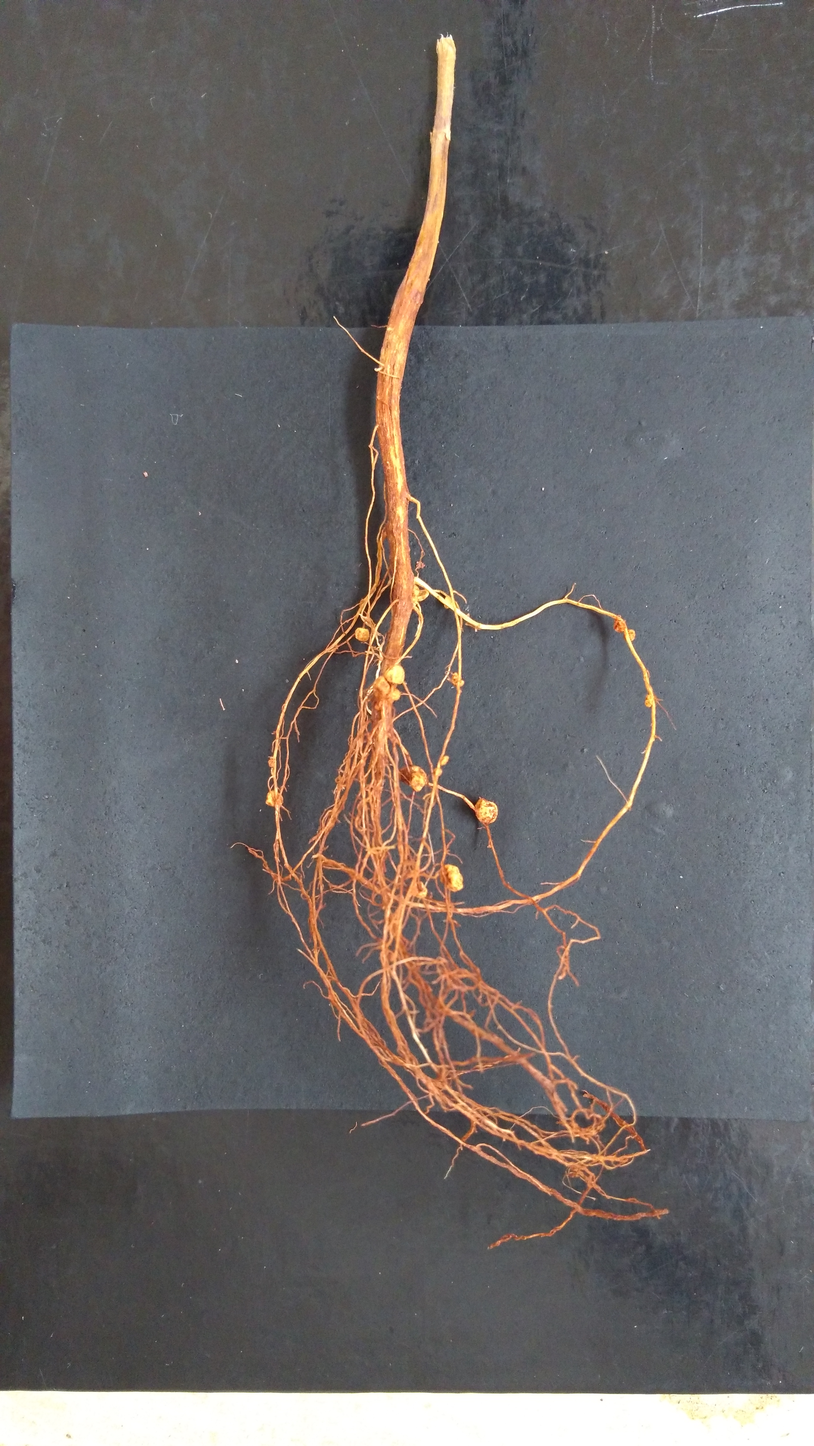nodule: (397, 764, 428, 793), (438, 863, 464, 893), (475, 798, 498, 825), (384, 663, 405, 684), (372, 676, 390, 699), (265, 789, 284, 807), (412, 880, 427, 898), (355, 627, 370, 642), (451, 672, 464, 687), (613, 619, 626, 633), (388, 687, 400, 701), (417, 589, 429, 602), (413, 583, 420, 605), (644, 694, 655, 708), (624, 629, 636, 641), (374, 699, 384, 711), (444, 595, 452, 609), (440, 755, 449, 766), (432, 767, 442, 776), (416, 560, 425, 569), (267, 758, 275, 768)
